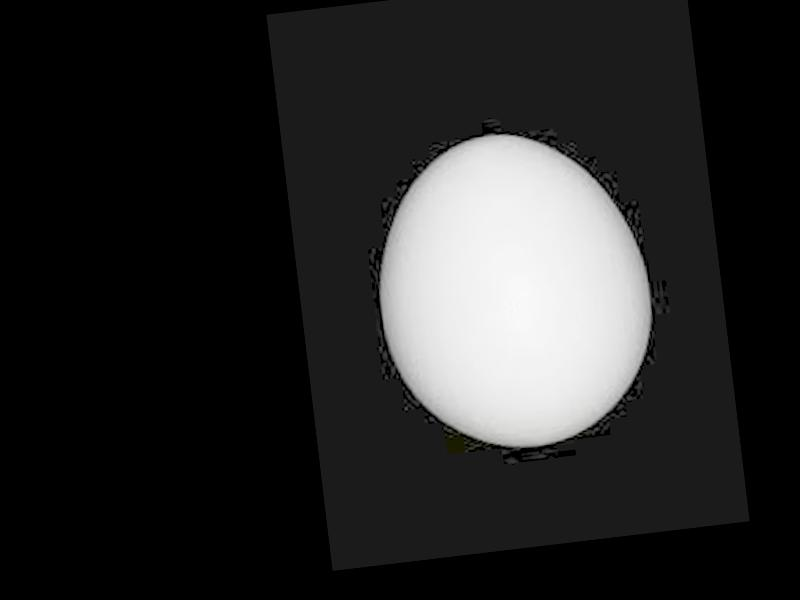Eggs: (363, 122, 664, 460)
